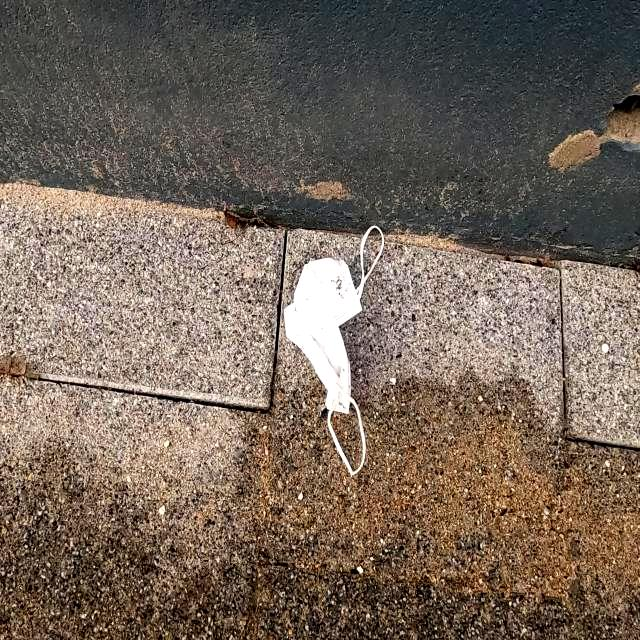Mask: (281, 224, 385, 478)
